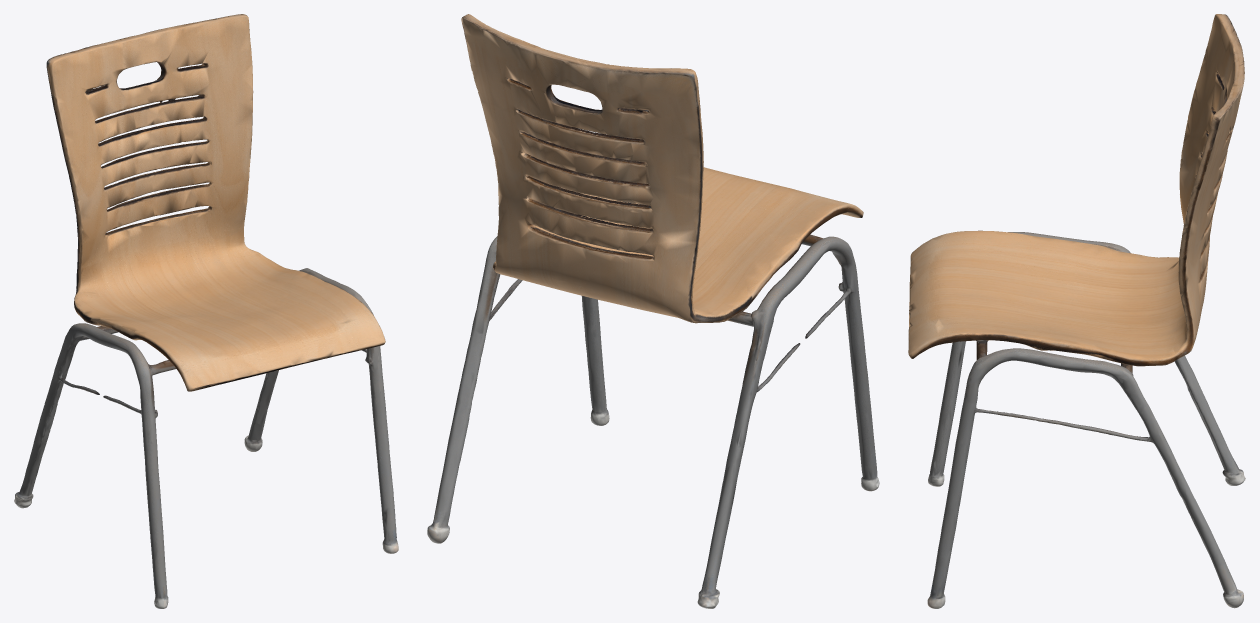
File: dalemans-chair-low.glb
3 renders of one model, left to right at view 1: azimuth 30°, elevation 25°; view 2: azimuth 150°, elevation 25°; view 3: azimuth 270°, elevation 25°, orthographic. The views are drawn at different scales.
Parts seen in each view (by area): view 1: Mesh_0; view 2: Mesh_0; view 3: Mesh_0.
Boxes of the visible parts, bbox=[...] form: Mesh_0: bbox=[14, 14, 398, 608]; Mesh_0: bbox=[427, 14, 879, 608]; Mesh_0: bbox=[908, 14, 1245, 608].
Size of the model in its own units: 0.4998 by 0.8699 by 0.5499.
1 material, 1 textured.
